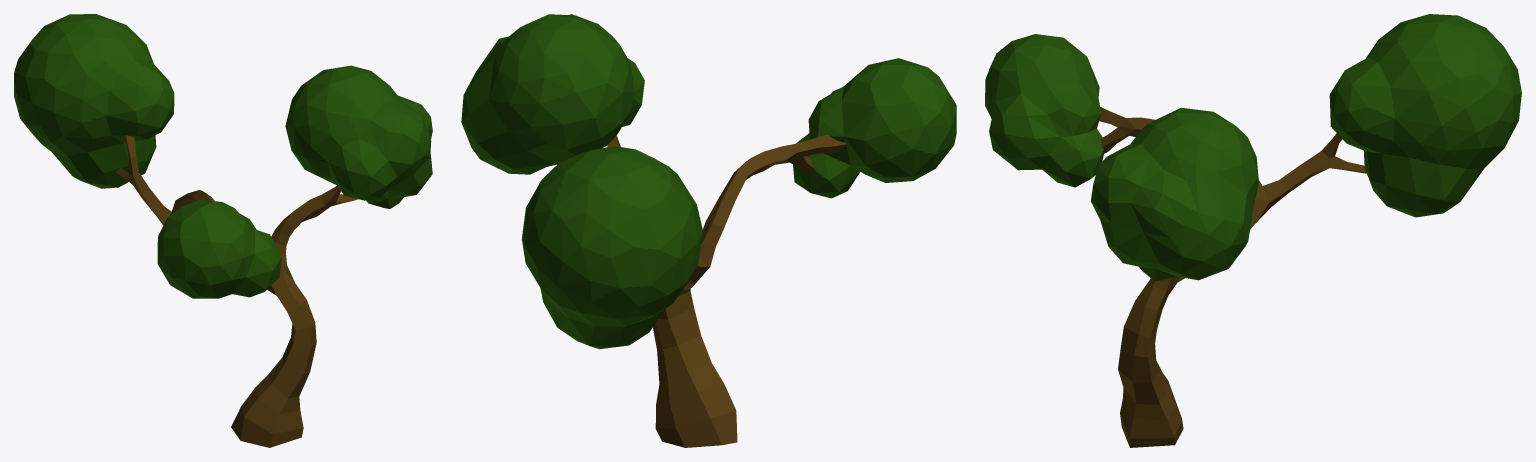
File: tree2.obj
The picture shows the model from 3 angles, left to right: view 1: azimuth 30°, elevation 25°; view 2: azimuth 150°, elevation 25°; view 3: azimuth 270°, elevation 25°; orthographic projection. The views are drawn at different scales.
Parts seen in each view (by area): view 1: polySurface7; view 2: polySurface7; view 3: polySurface7.
Boxes of the visible parts, x1,y1,x2,y2 form: polySurface7: (14, 14, 432, 447); polySurface7: (461, 14, 956, 447); polySurface7: (985, 14, 1521, 447).
Bounding box in the file's own units: 3.25 × 3.25 × 4.13.
1 material, 1 textured.
